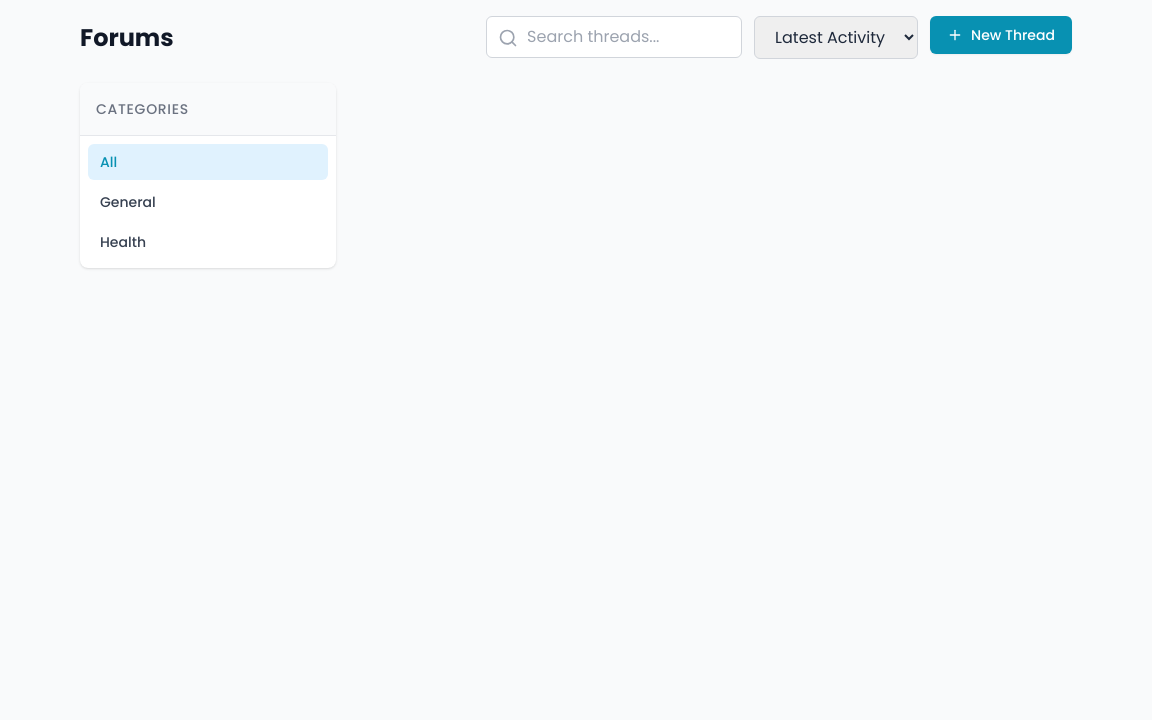
Community Component › opens modal on "New Thread" click
Click the button "New Thread" at x=1001, y=35, box x1=930 y1=16 x2=1072 y2=54
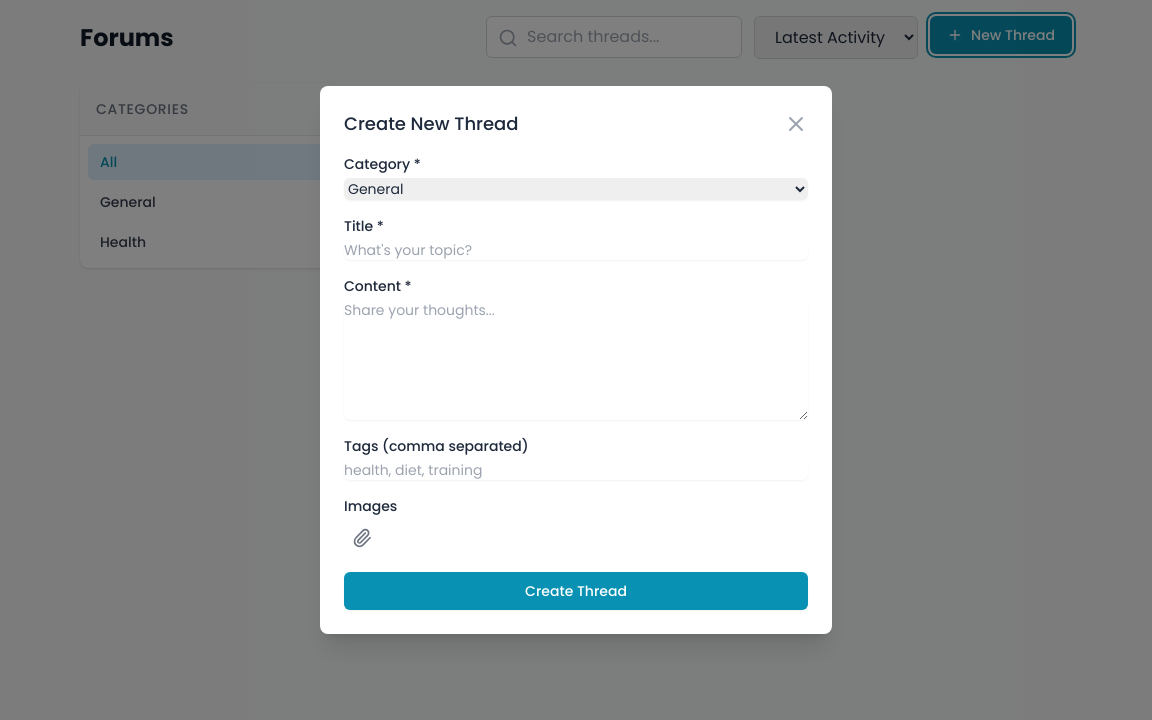
Expected: the heading "Create New Thread" is shown, x1=344 y1=110 x2=518 y2=138
